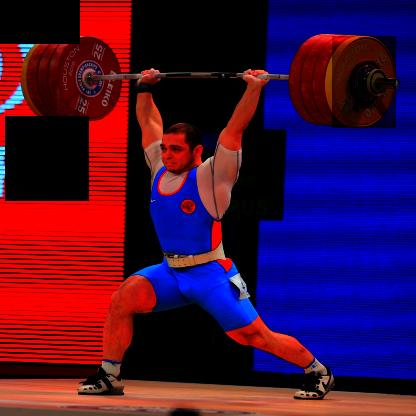barbell: (333, 37, 397, 129), (59, 35, 125, 123)
